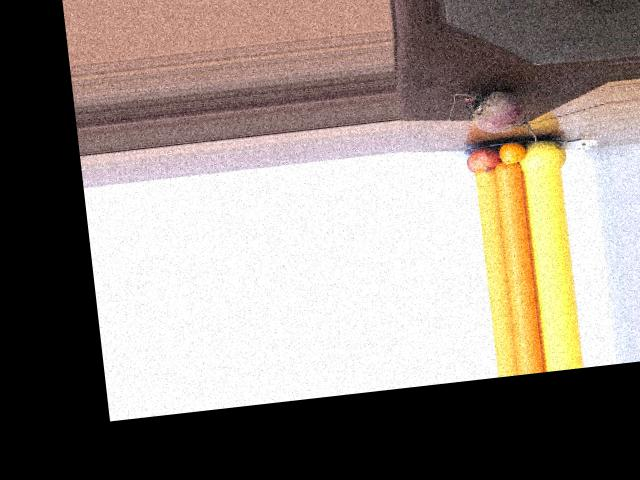beet: (446, 84, 538, 157)
